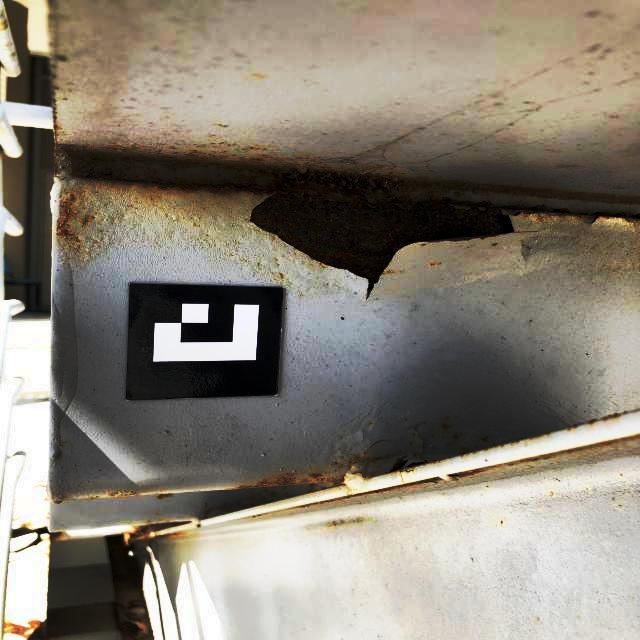Corrosion: (55, 144, 640, 305), (303, 477, 442, 507), (201, 484, 321, 516), (224, 472, 347, 490), (117, 598, 149, 640), (121, 524, 178, 546), (4, 618, 56, 640), (347, 453, 396, 468), (386, 461, 431, 474), (450, 467, 485, 478), (39, 532, 64, 544), (18, 522, 34, 529), (460, 448, 472, 455), (158, 494, 171, 499), (442, 422, 450, 430), (454, 433, 460, 440), (482, 437, 488, 442)
